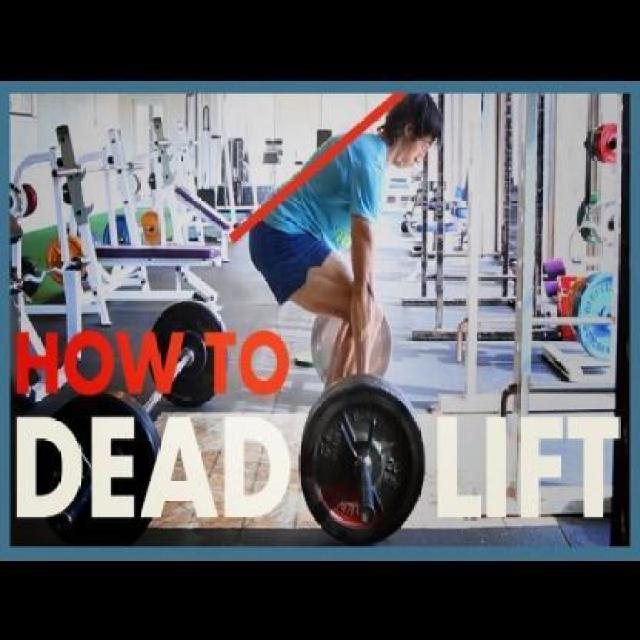barbell: (296, 380, 429, 549)
